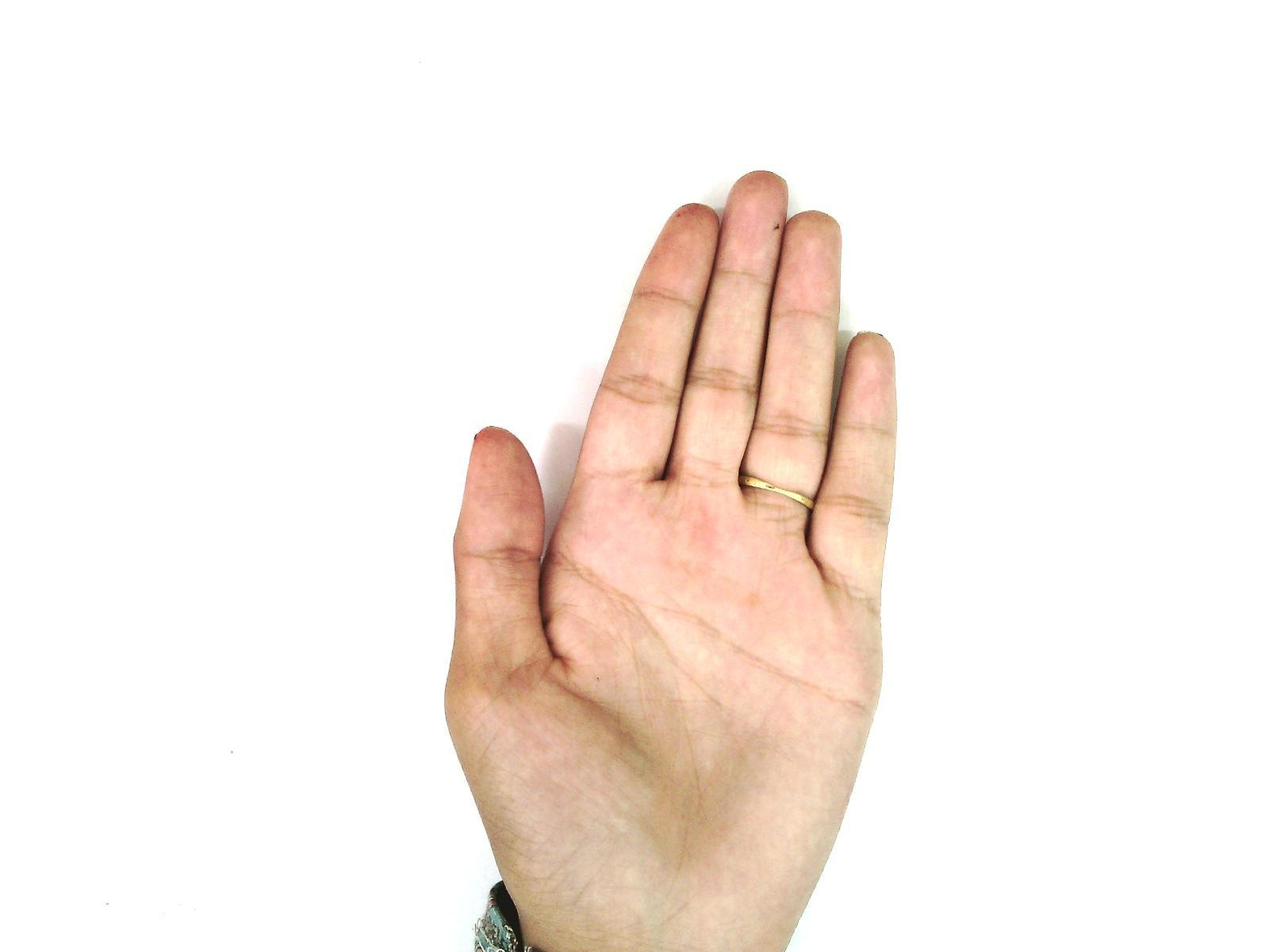open_palm: (442, 169, 902, 950)
